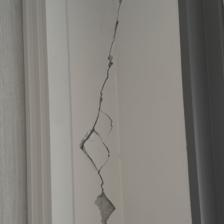High: (67, 1, 134, 223)
